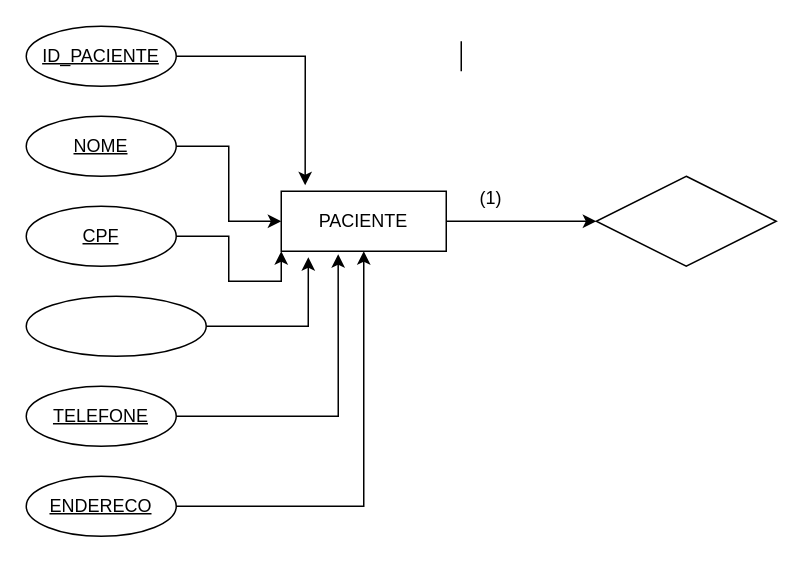
The diagram is 803 pixels wide and 563 high, and some of its shapes have lost their labels. The centre of each missing label's shape, as x and y in pixels:
"CONSULTA" belongs at point (685, 220).
"DATA_NASCIMENTO" belongs at point (115, 325).
